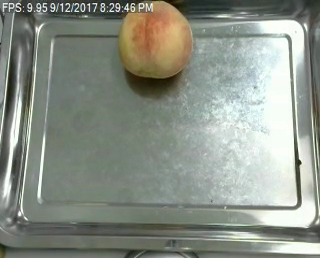Peach: (117, 0, 193, 79)
